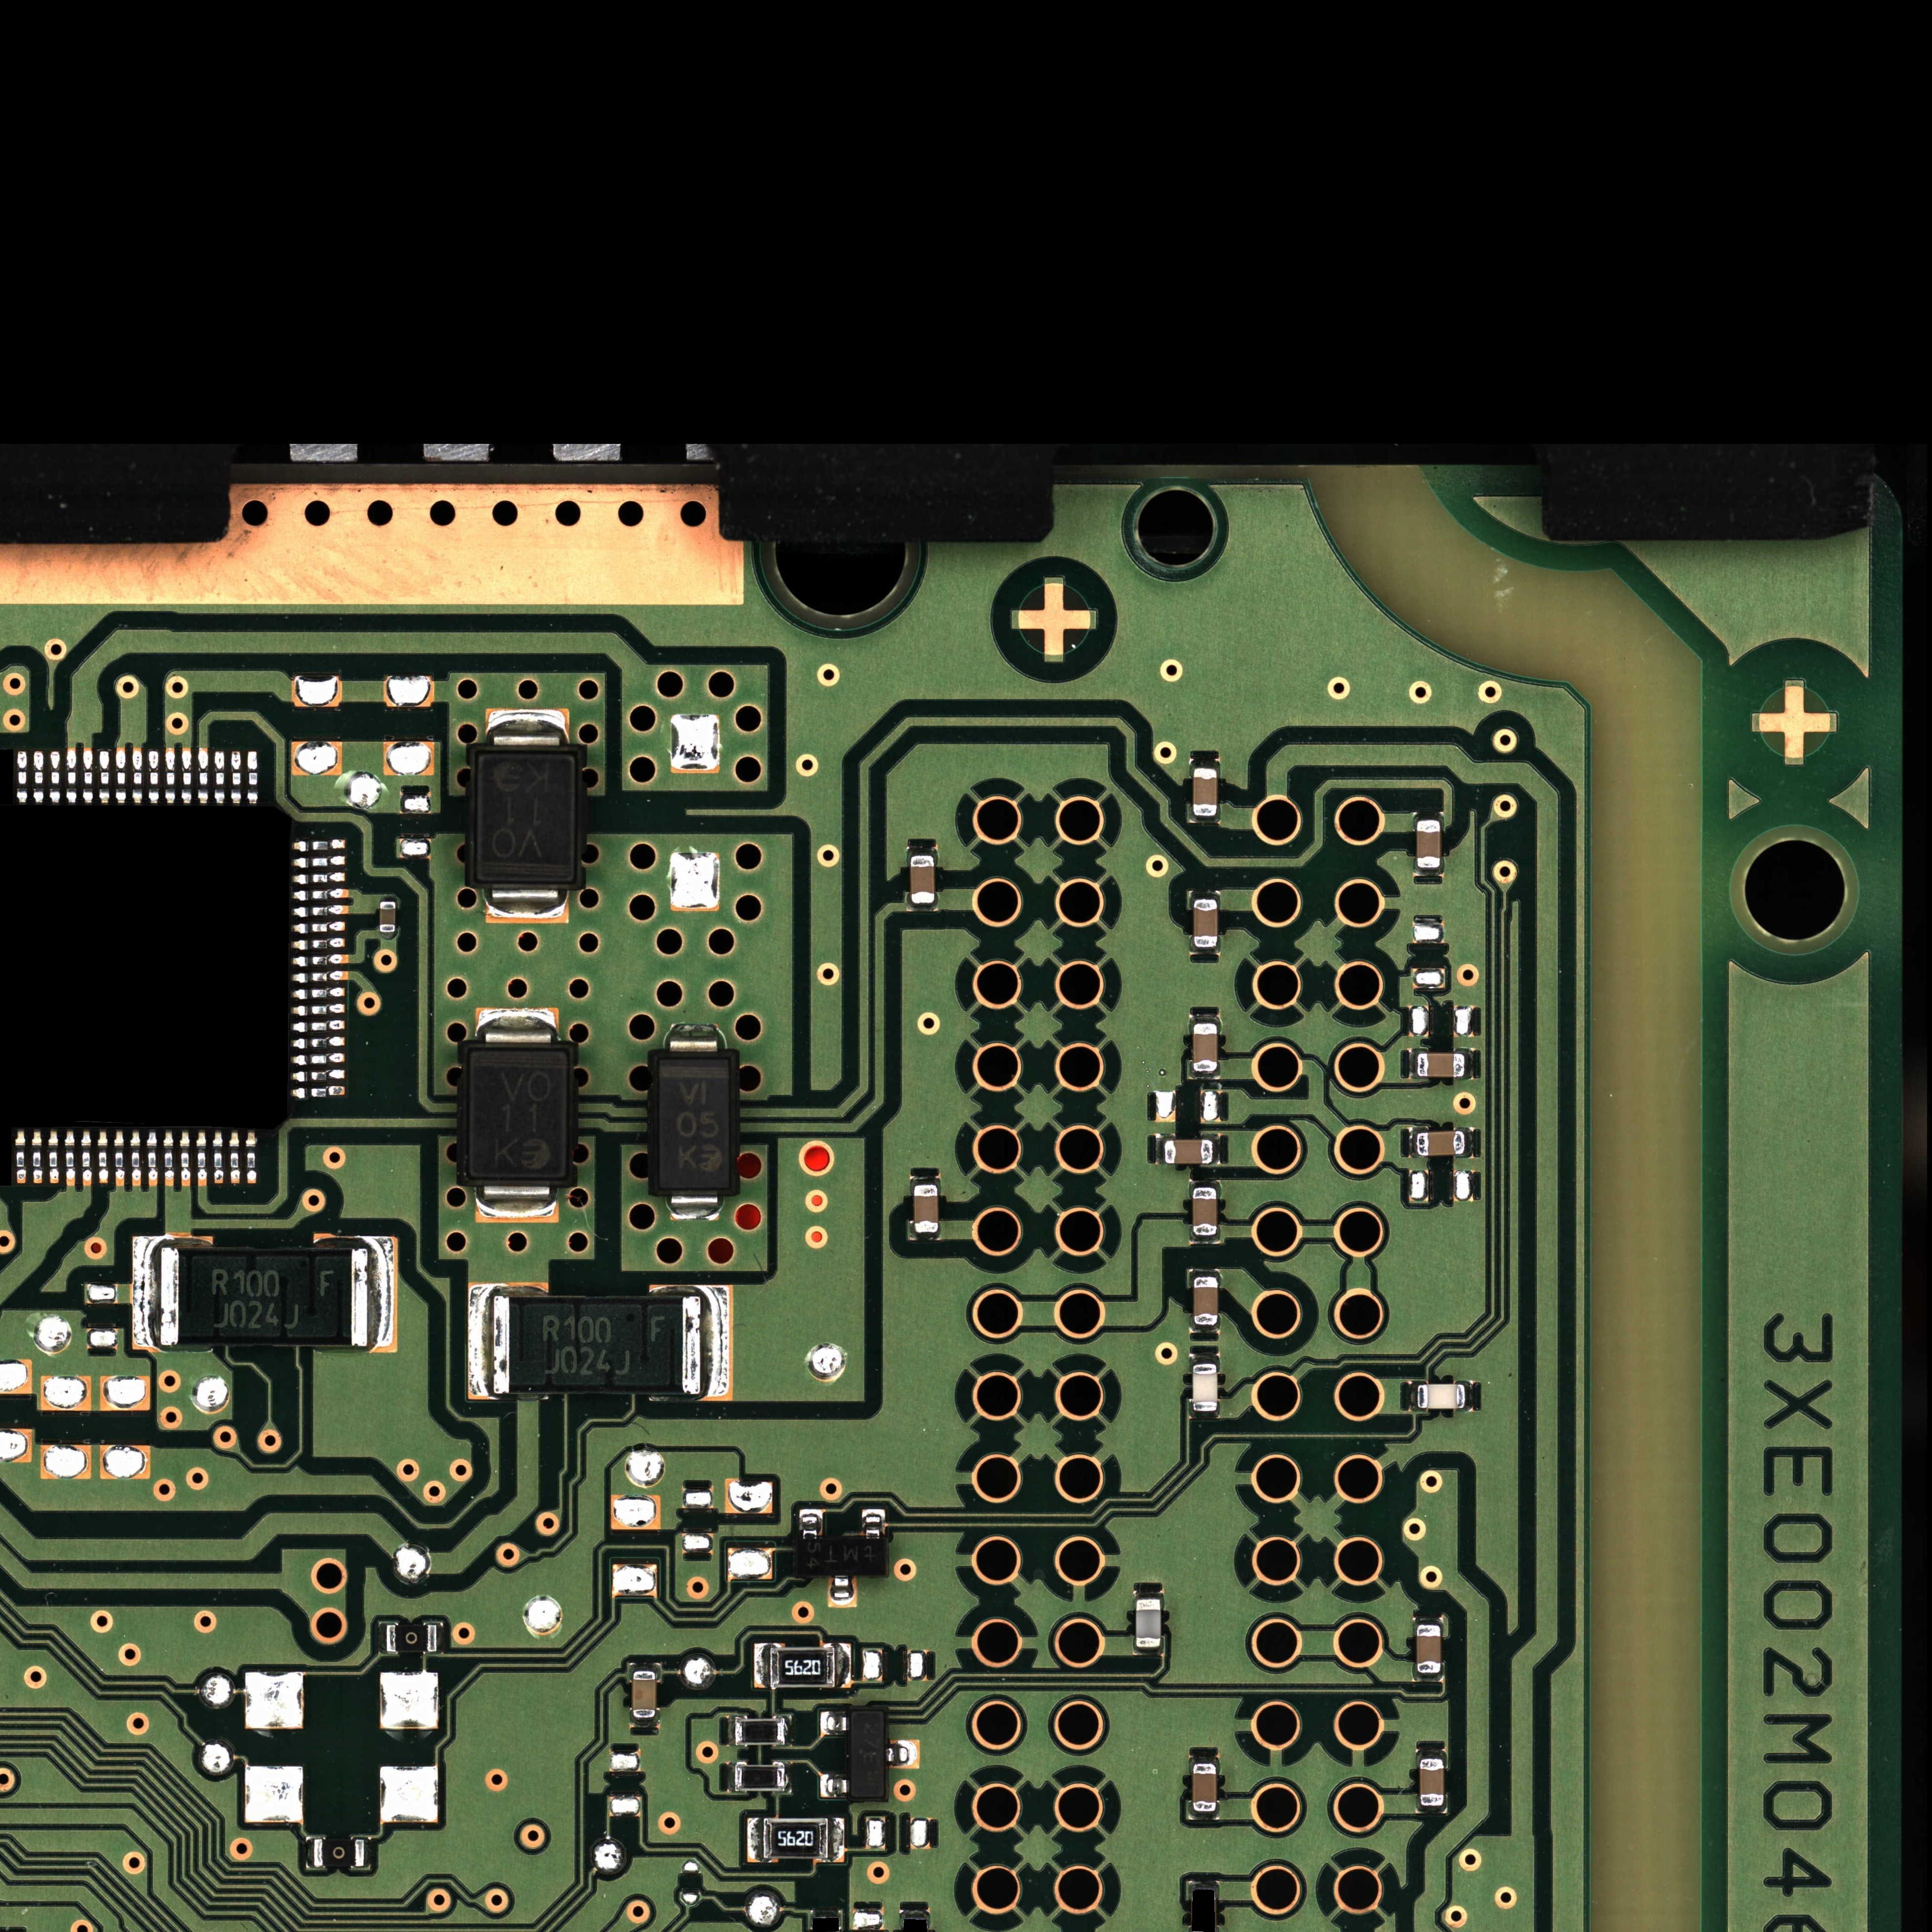Package: (161, 1247, 368, 1345), (494, 1297, 701, 1394), (478, 754, 575, 883), (469, 1051, 566, 1178), (658, 1060, 729, 1189), (794, 1539, 886, 1576), (851, 1711, 885, 1798), (770, 1647, 835, 1688), (763, 1819, 828, 1859), (313, 1838, 364, 1867), (386, 1624, 437, 1652), (734, 1718, 784, 1744), (734, 1766, 784, 1790), (1417, 1624, 1442, 1674), (913, 1185, 938, 1233), (1192, 768, 1217, 816), (1164, 1139, 1212, 1164), (1419, 1759, 1444, 1806), (1417, 1384, 1465, 1408), (1192, 1024, 1217, 1072), (1192, 1764, 1217, 1812), (1192, 1364, 1217, 1412), (1417, 1053, 1465, 1077), (1136, 1599, 1161, 1647), (1417, 1131, 1465, 1155), (1192, 1187, 1217, 1235), (632, 1672, 656, 1718), (911, 856, 934, 904), (1417, 821, 1440, 869), (1194, 899, 1217, 947), (1194, 1277, 1217, 1325)
Solder: (368, 1237, 398, 1353), (701, 1284, 731, 1399), (476, 1007, 557, 1049), (478, 1180, 557, 1223), (485, 885, 568, 924), (487, 709, 568, 747), (133, 1237, 159, 1350), (469, 1283, 494, 1399), (667, 1023, 722, 1056), (669, 1189, 720, 1221), (885, 1739, 918, 1767), (828, 1576, 856, 1606), (821, 1711, 851, 1736), (828, 1817, 844, 1863), (747, 1817, 763, 1863), (835, 1644, 851, 1688), (754, 1644, 770, 1688), (64, 1131, 76, 1187), (821, 1775, 851, 1798), (800, 1509, 823, 1539), (862, 1509, 885, 1539), (294, 888, 349, 901), (294, 954, 349, 966), (212, 1132, 225, 1185), (228, 1132, 241, 1185), (294, 872, 347, 885), (294, 856, 345, 869), (294, 987, 345, 1000), (294, 1003, 345, 1016), (294, 1037, 345, 1049), (294, 1053, 345, 1065), (81, 1131, 92, 1187), (113, 1131, 124, 1187), (131, 1131, 142, 1187), (163, 1131, 173, 1187), (180, 1131, 191, 1187), (196, 1131, 207, 1187), (198, 748, 209, 805), (165, 748, 175, 805), (115, 748, 126, 805), (65, 748, 76, 805), (147, 1131, 157, 1185), (294, 906, 349, 916), (294, 971, 349, 982), (248, 750, 258, 805), (230, 750, 241, 805), (214, 750, 225, 805), (180, 748, 191, 803), (149, 750, 159, 805), (131, 748, 142, 803), (99, 750, 110, 805), (81, 748, 92, 803), (50, 750, 60, 805), (34, 750, 44, 805), (16, 750, 27, 805), (16, 1131, 27, 1184), (32, 1131, 42, 1184), (48, 1131, 58, 1184), (97, 1131, 108, 1184), (246, 1132, 257, 1185), (294, 840, 347, 851), (294, 922, 345, 932), (294, 938, 345, 948), (294, 1021, 345, 1031), (294, 1070, 345, 1081), (294, 1086, 345, 1097), (1414, 810, 1444, 821), (1212, 1134, 1223, 1164), (1417, 1748, 1447, 1759), (901, 1909, 931, 1920), (1191, 1353, 1219, 1364), (1189, 947, 1221, 955), (1189, 890, 1221, 899), (1189, 816, 1221, 824), (1189, 1325, 1221, 1334), (1189, 1014, 1221, 1023), (1189, 1269, 1221, 1277), (1189, 1235, 1221, 1244), (1132, 1647, 1164, 1656), (1187, 1812, 1219, 1821), (1415, 1806, 1447, 1815), (908, 846, 938, 855), (909, 1175, 939, 1184), (630, 1718, 660, 1727), (630, 1663, 660, 1672), (727, 1716, 736, 1746), (784, 1762, 793, 1792), (1414, 869, 1444, 878), (1189, 759, 1219, 768), (1408, 1049, 1417, 1079), (1408, 1382, 1417, 1412), (1155, 1134, 1164, 1164), (1191, 1178, 1221, 1187), (1408, 1127, 1417, 1157), (1189, 1755, 1219, 1764), (1134, 1591, 1164, 1599), (1414, 1674, 1444, 1683), (1414, 1617, 1444, 1626), (1465, 1049, 1474, 1079), (784, 1716, 793, 1744), (1191, 1881, 1219, 1890), (812, 1907, 840, 1916), (379, 1622, 386, 1654), (306, 1836, 313, 1868), (437, 1622, 444, 1652), (908, 904, 938, 911), (909, 1233, 939, 1240), (727, 1762, 734, 1792), (1189, 1072, 1219, 1079), (1189, 1412, 1219, 1419), (1465, 1382, 1472, 1412), (1465, 1127, 1472, 1157), (364, 1838, 372, 1867)
